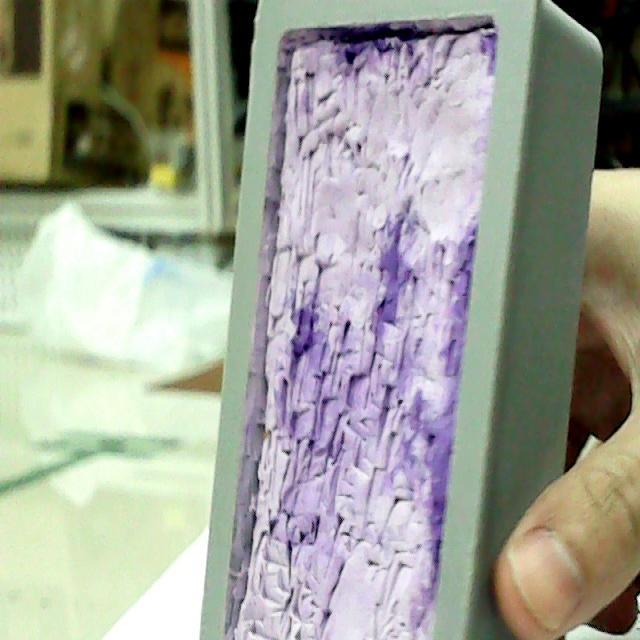block: (178, 1, 618, 640)
